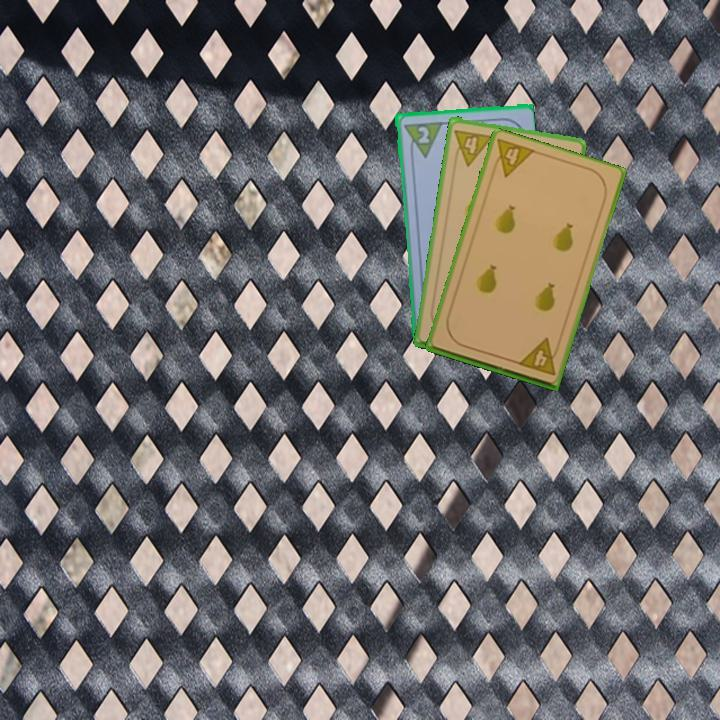2p: (399, 118, 444, 161)
4p: (487, 135, 537, 180), (514, 335, 563, 378), (450, 126, 496, 168)
